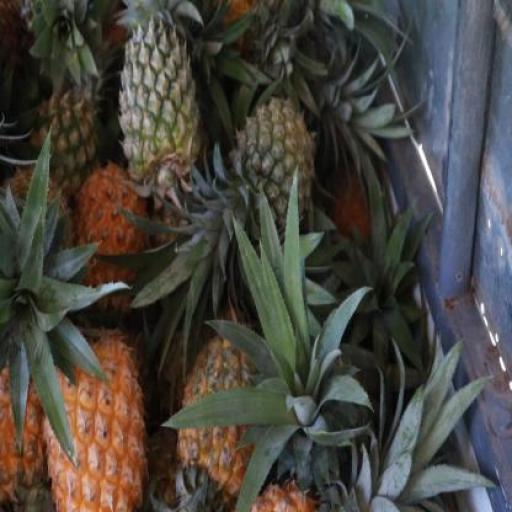Pineapple - v8 v1: (41, 326, 144, 512)
